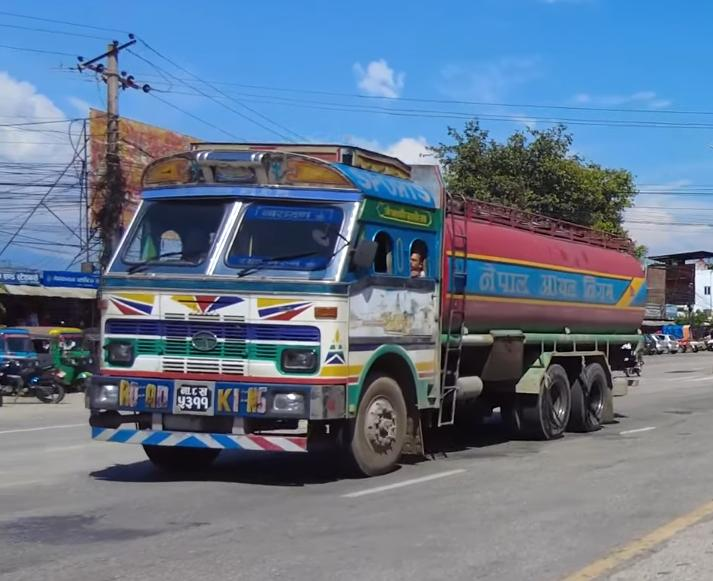truck: (84, 141, 648, 477)
